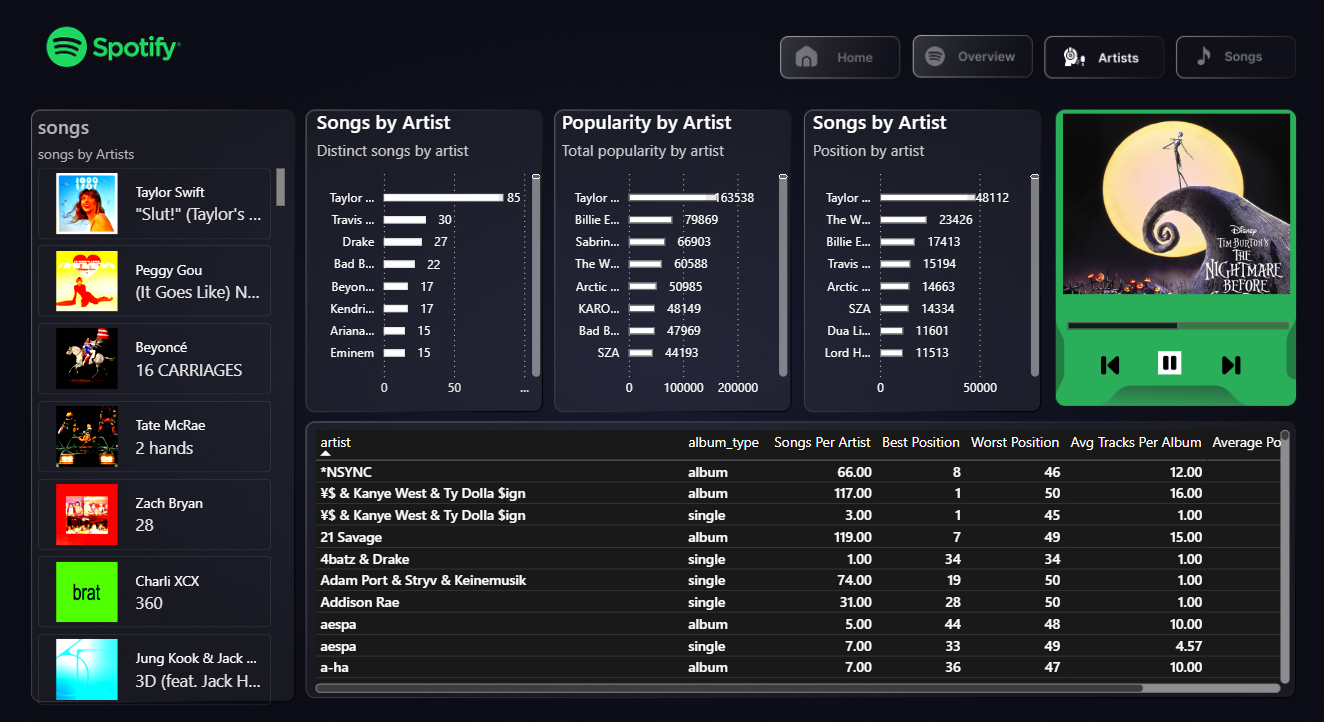

The page's visual inventory and layout, read from the dashboard file:
{"tool":"powerbi","page":{"name":"Artist","canvas":[1280,720],"ordinal":2},"visuals":[{"type":"actionButton","box":[754.7,37.9,114.6,42.2],"z":0},{"type":"actionButton","box":[877.8,37.9,119.4,42.2],"z":1000},{"type":"actionButton","box":[1008.5,39.7,115,41.2],"z":2000},{"type":"actionButton","box":[1136,39.7,115,41.2],"z":3000},{"type":"hundredPercentStackedBarChart","fields":{"Y":["Month.Average Popularity","Avg(Top-50-world.popularity)"]},"box":[1026.7,283.5,223.2,66.4],"z":4000},{"type":"image","box":[1051.9,342,40,30],"z":5000},{"type":"image","box":[1169.4,342,40,30],"z":6000},{"type":"image","box":[1103.1,339.5,55,32.5],"z":7000},{"type":"advancedSlicerVisual","title":"songs ","fields":{"Values":["Top-50-world.song"]},"box":[32.9,114.3,248.6,577.1],"z":8000},{"type":"clusteredBarChart","title":" Songs by Artist","fields":{"Y":["Count(Top-50-world.song)"],"Category":["Top-50-world.artist"]},"box":[302.1,109.9,226.1,287.3],"z":9000},{"type":"clusteredBarChart","title":"Popularity by Artist","fields":{"Y":["Sum(Top-50-world.popularity)"],"Category":["Top-50-world.artist"]},"box":[538.6,110.2,228,287.1],"z":10000},{"type":"tableEx","fields":{"Values":["Top-50-world.artist","Top-50-world.album_type","Month.Songs Per Artist","Month.Best Position","Month.Worst Position","Month.Avg Tracks Per Album","Month.Average Popularity","Month.Popularity Rank"]},"box":[299.8,414.7,951.8,263.5],"z":11000},{"type":"clusteredBarChart","title":" Songs by Artist","fields":{"Category":["Top-50-world.artist"],"Y":["Sum(Top-50-world.position)"]},"box":[780,110,228.6,287.1],"z":12000},{"type":"cardVisual","fields":{"Data":["Min(Top-50-world.album_cover_url)"]},"box":[855.7,110,391.4,187.1],"z":13000}]}

Visuals, with their boxes on the page's 1280x720 design canvas (x1, y1, x2, y2). These are canvas units, not pixel positions in the 1324x722 screenshot, which may show the page scaled, cropped or inside an application window:
actionButton: {"left": 755, "top": 38, "right": 869, "bottom": 80}
actionButton: {"left": 878, "top": 38, "right": 997, "bottom": 80}
actionButton: {"left": 1008, "top": 40, "right": 1124, "bottom": 81}
actionButton: {"left": 1136, "top": 40, "right": 1251, "bottom": 81}
hundredPercentStackedBarChart - Month.Average Popularity x Avg(Top-50-world.popularity): {"left": 1027, "top": 284, "right": 1250, "bottom": 350}
image: {"left": 1052, "top": 342, "right": 1092, "bottom": 372}
image: {"left": 1169, "top": 342, "right": 1209, "bottom": 372}
image: {"left": 1103, "top": 340, "right": 1158, "bottom": 372}
"songs " advancedSlicerVisual: {"left": 33, "top": 114, "right": 282, "bottom": 691}
" Songs by Artist" clusteredBarChart: {"left": 302, "top": 110, "right": 528, "bottom": 397}
"Popularity by Artist" clusteredBarChart: {"left": 539, "top": 110, "right": 767, "bottom": 397}
tableEx - Top-50-world.artist x Top-50-world.album_type: {"left": 300, "top": 415, "right": 1252, "bottom": 678}
" Songs by Artist" clusteredBarChart: {"left": 780, "top": 110, "right": 1009, "bottom": 397}
cardVisual - Min(Top-50-world.album_cover_url): {"left": 856, "top": 110, "right": 1247, "bottom": 297}
